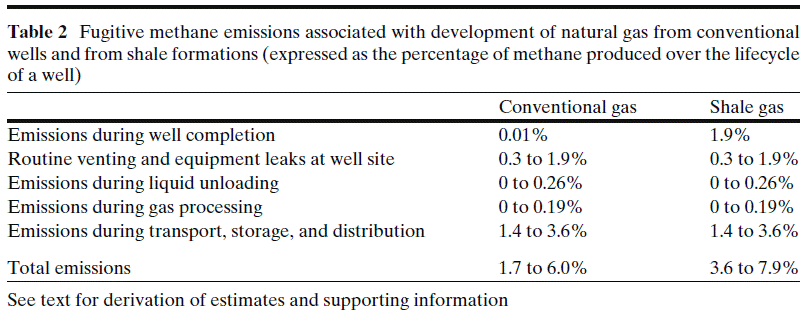fracking table: (4, 87, 806, 287)
